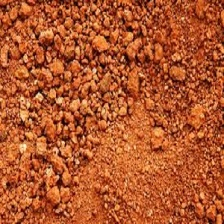clay_soil: (9, 22, 209, 198)
